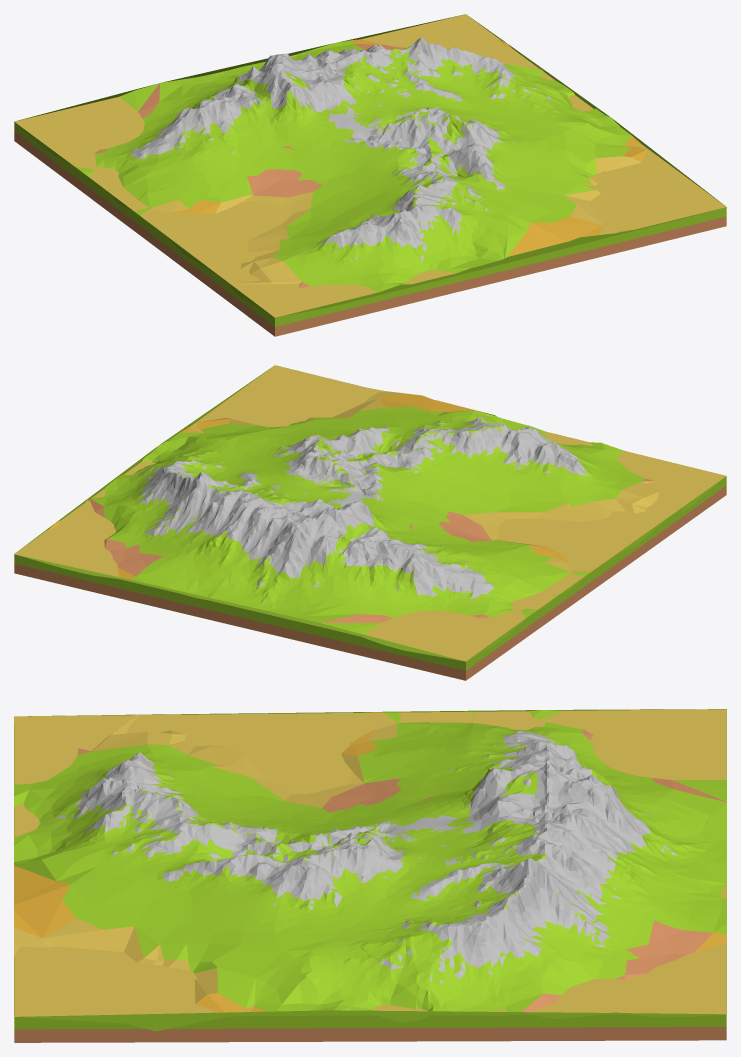
Rendered from mapsss (1).fbx.
3 views of the same model, one above another, from view 1: azimuth 30°, elevation 25°; view 2: azimuth 150°, elevation 25°; view 3: azimuth 270°, elevation 25° (orthographic). The views are drawn at different scales.
Parts seen in each view (by area): view 1: Cube; view 2: Cube; view 3: Cube.
Boxes of the visible parts, x1,y1,x2,y2 form: Cube: (14,14,726,336); Cube: (14,365,726,680); Cube: (14,709,726,1042).
Size of the model in its own units: 674 by 117 by 674.
